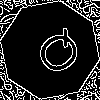Q: (25, 25, 87, 84)
